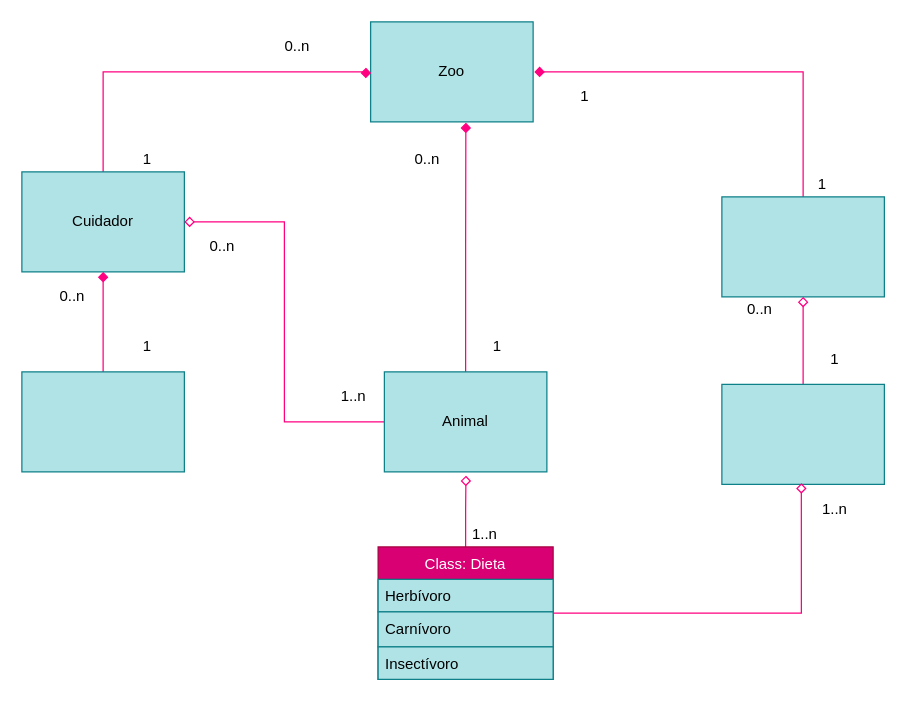
This 906x705 diagram has some shape labels left out. Each missing label, with the box of its shape:
Comida: (721, 383, 884, 484)
Stock: (721, 196, 884, 297)
Vacaciones: (21, 371, 184, 472)
